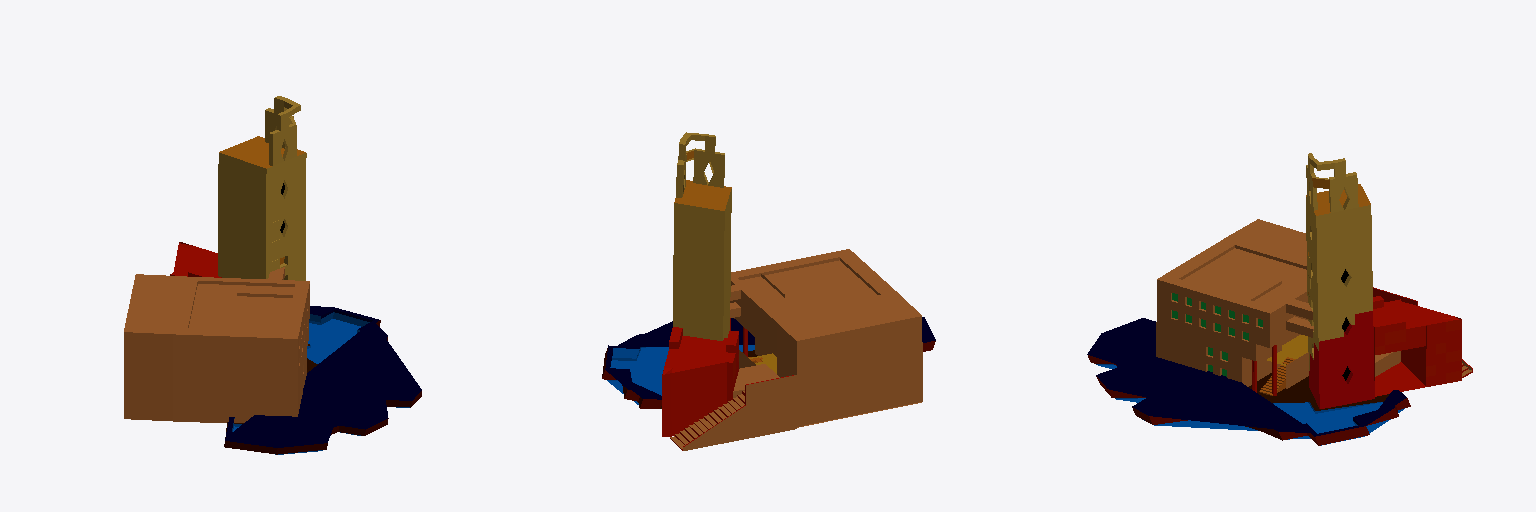
Rendered from buildings.obj.
3 renders of one model, left to right at view 1: azimuth 30°, elevation 25°; view 2: azimuth 150°, elevation 25°; view 3: azimuth 270°, elevation 25°, orthographic.
Parts seen in each view (by area): view 1: Cube.002; view 2: Cube.002; view 3: Cube.002.
Boxes of the visible parts, <box> form: Cube.002: <box>124,96,421,454</box>; Cube.002: <box>602,132,935,450</box>; Cube.002: <box>1087,153,1472,445</box>.
Bounding box in the file's own units: 3.17 × 2.58 × 3.69.